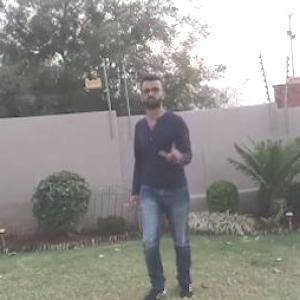land_hand: (155, 135, 188, 169)
